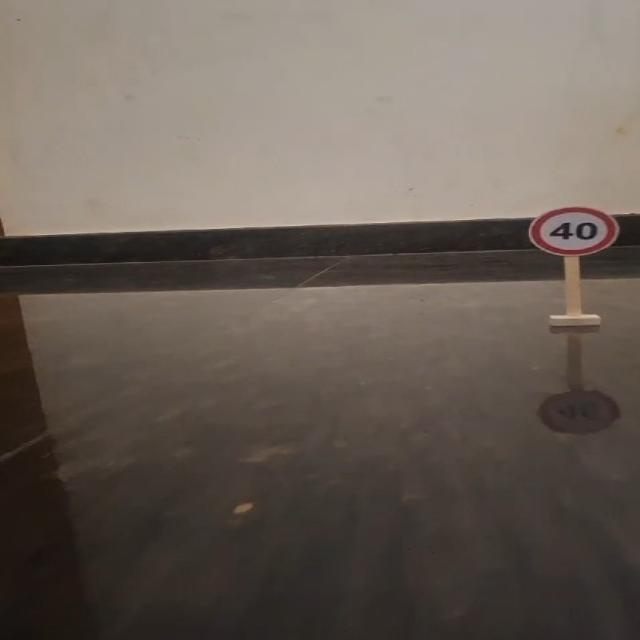Speed40: (527, 203, 624, 258)
